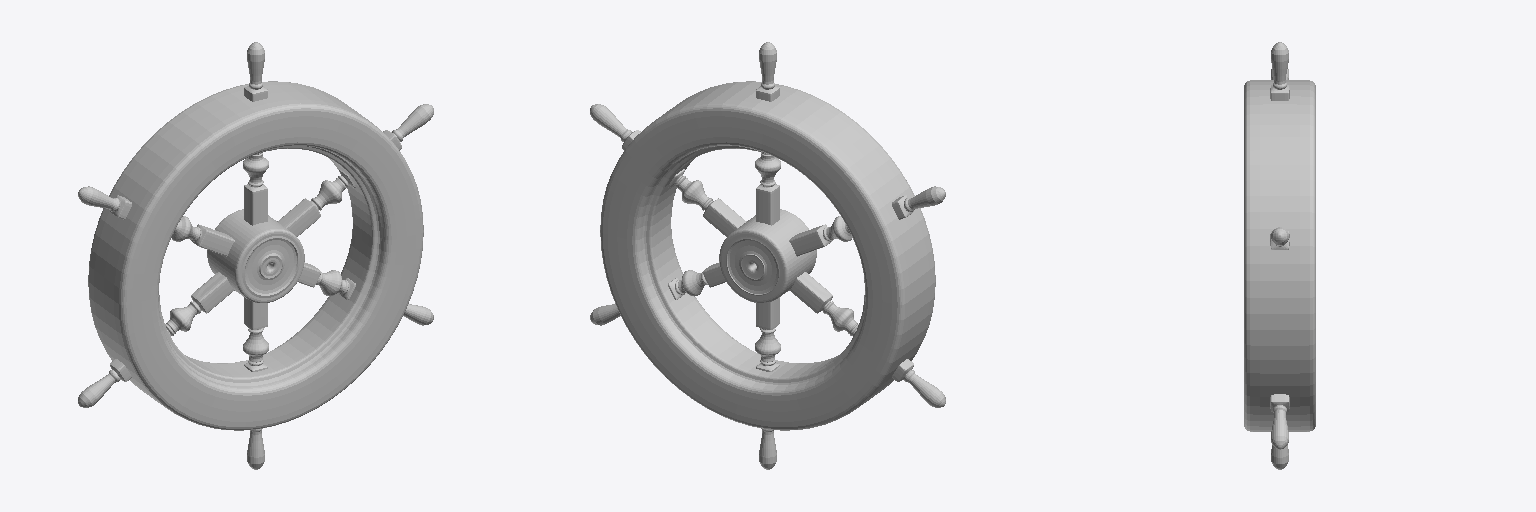
The model's file is Wheel.obj.
The picture shows the model from 3 angles: view 1: azimuth 30°, elevation 25°; view 2: azimuth 150°, elevation 25°; view 3: azimuth 270°, elevation 25°; orthographic projection.
Visible parts, largest first — view 1: Wheel_Cube; view 2: Wheel_Cube; view 3: Wheel_Cube.
Part boxes in pixels (bbox=[...]): Wheel_Cube: bbox=[78, 42, 433, 469]; Wheel_Cube: bbox=[590, 42, 945, 469]; Wheel_Cube: bbox=[1244, 42, 1315, 469].
Bounding box in the file's own units: 42.71 × 49.2 × 7.56.